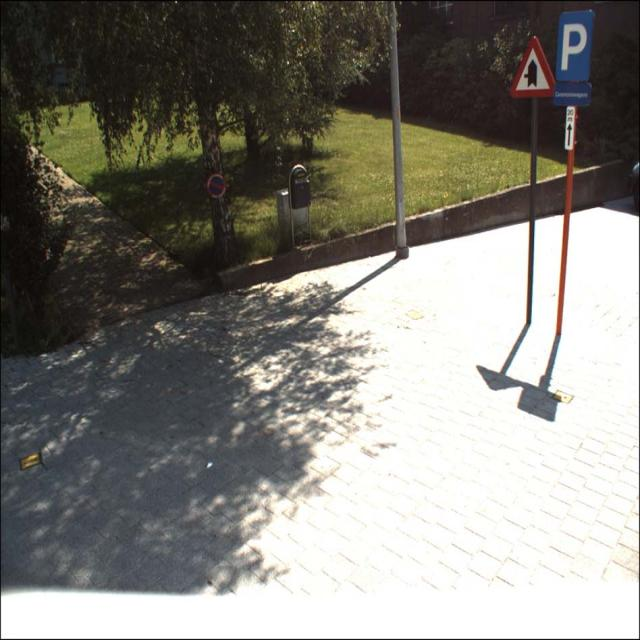park: (554, 10, 594, 81)
parkyasak: (207, 173, 226, 199)
